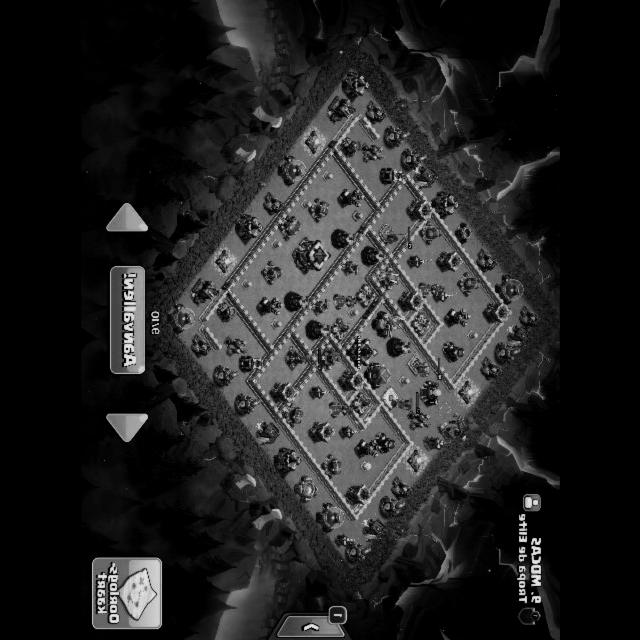AD: (443, 308, 471, 327), (256, 297, 283, 316), (354, 440, 382, 458), (337, 190, 365, 208)
AirSweeper: (340, 259, 359, 277), (310, 299, 329, 316)
BombTower: (239, 356, 265, 372), (379, 168, 405, 184)
Canon: (457, 272, 480, 297), (279, 216, 301, 242), (419, 222, 442, 246), (261, 262, 282, 286), (309, 198, 329, 223), (321, 454, 341, 479), (283, 404, 303, 428)
ClanCastle: (346, 339, 378, 367)
Eagle: (372, 312, 405, 338)
Inferno: (333, 294, 358, 310), (418, 283, 443, 298), (329, 402, 354, 417)
KingPad: (408, 353, 424, 375)
Mortar: (441, 341, 464, 363), (374, 432, 396, 453), (340, 136, 361, 157), (216, 302, 236, 323)
QueenPad: (283, 346, 300, 370)
RcPad: (380, 224, 394, 242)
Scattershot: (319, 342, 341, 370), (377, 267, 401, 291)
TH13: (292, 240, 331, 271)
WardenPad: (383, 388, 398, 409)
WizzTower: (331, 230, 357, 249), (386, 338, 411, 357), (305, 322, 330, 340), (284, 293, 309, 311), (361, 248, 386, 266)
Xbow: (350, 391, 371, 416), (411, 312, 431, 337), (330, 317, 350, 342), (356, 284, 376, 308)
